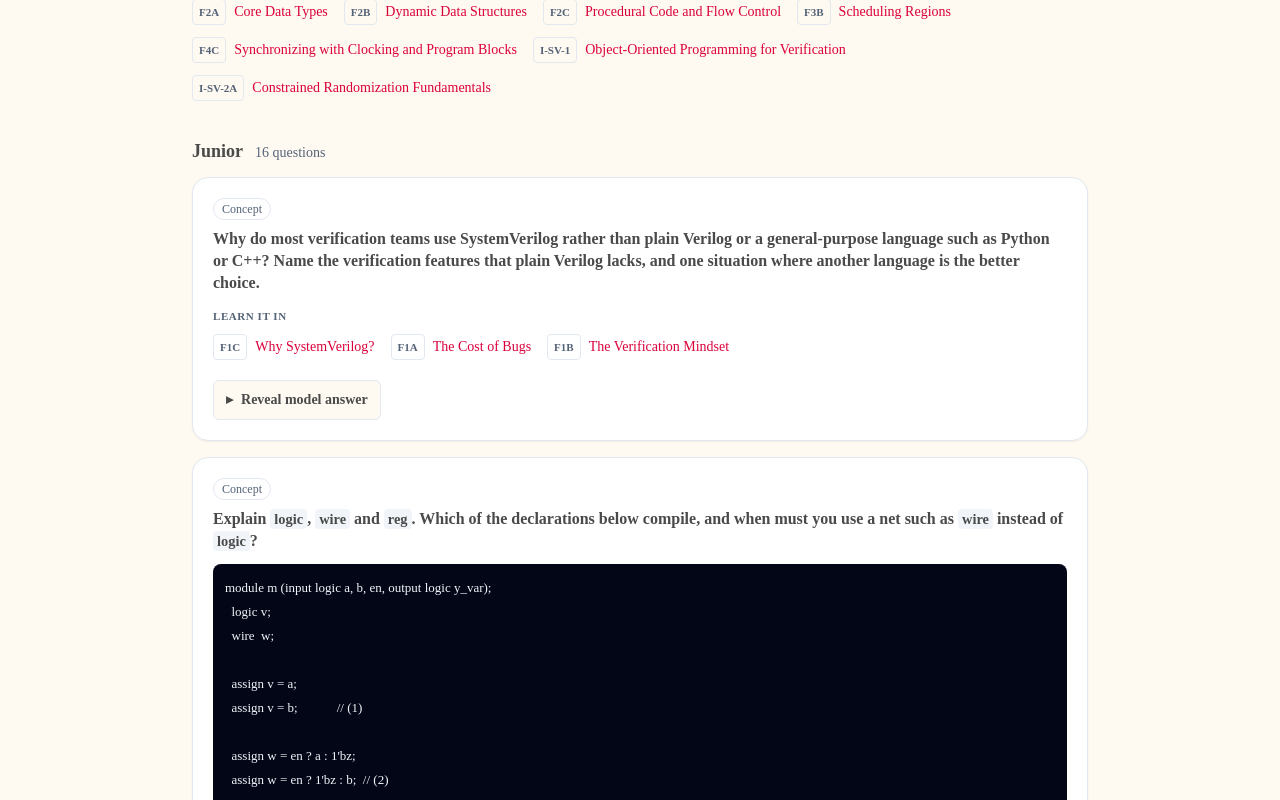
Scenario: /interview-prep page › keeps every model answer hidden until the learner reveals it
(page scrolled)
Click the button "▸ Reveal model answer": click(297, 400) [213, 380, 381, 420]
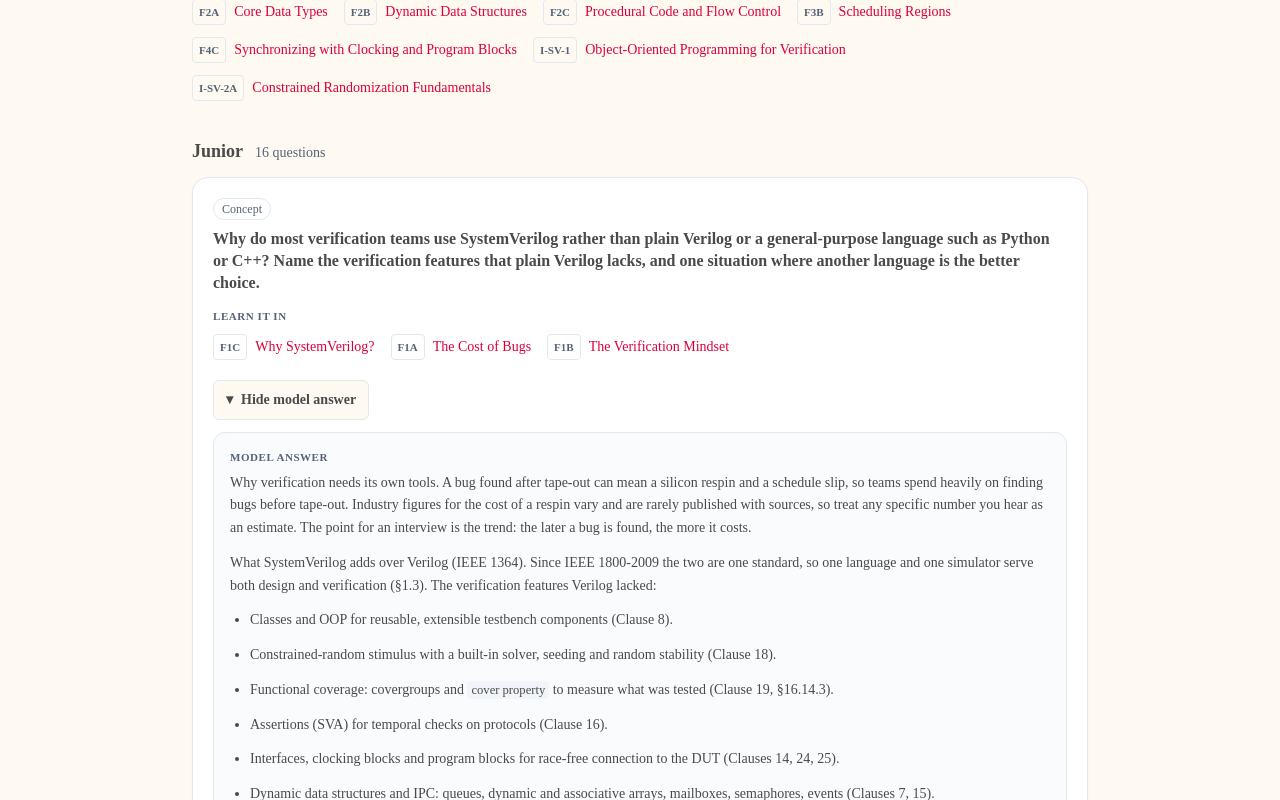
Check: the button named "Reveal model answer" is expanded, box [213, 380, 369, 420]
Check: the button named "Reveal model answer" shows "Hide model answer", box [213, 380, 369, 420]
Check: the text "Model answer" is shown, box [230, 451, 328, 463]
